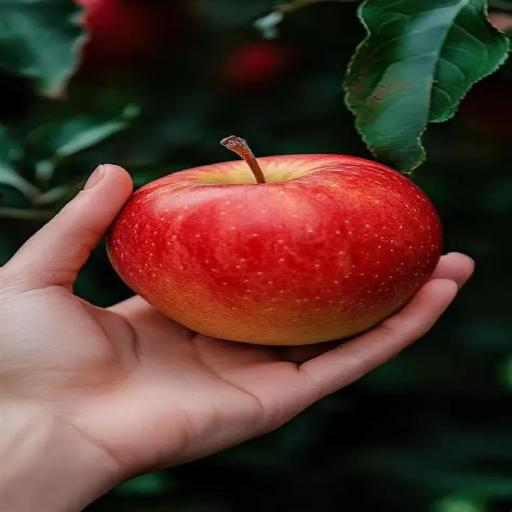apple: (107, 137, 441, 345)
